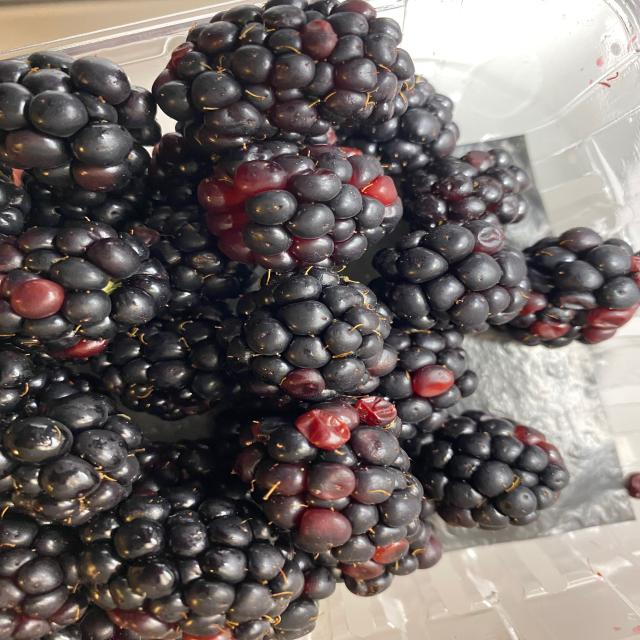blackberries: (13, 22, 629, 632)
